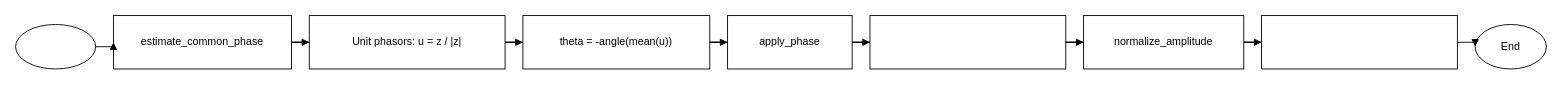
The diagram is 1562 pixels wide and 85 high, and some of its shapes have lost their labels. Each missing label, with the centre of its shape:
pbch_re * exp(1j*theta): pixel 967 42
Per-symbol RMS -> scale to 1: pixel 1359 42
Start: pixel 55 46
